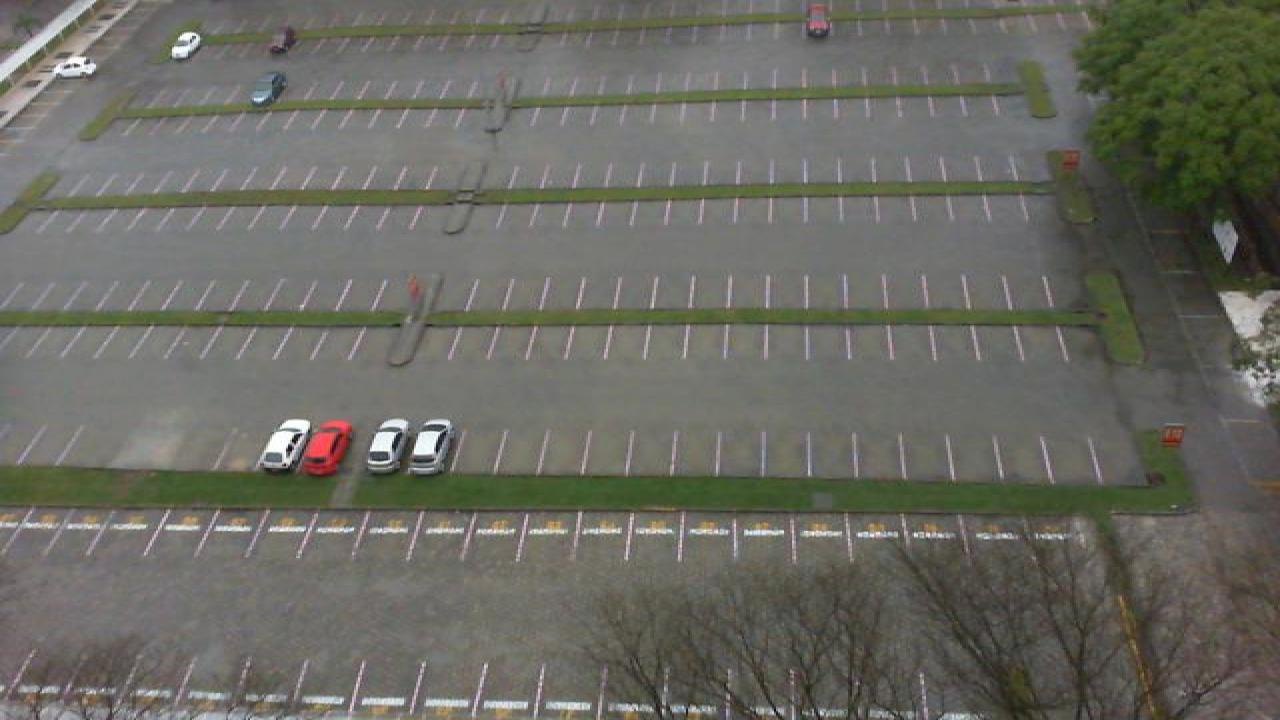Car: (298, 418, 354, 476), (256, 418, 312, 472), (362, 418, 416, 472), (406, 419, 456, 474), (250, 70, 288, 108), (50, 54, 96, 78), (170, 30, 204, 61), (804, 4, 834, 38), (270, 26, 300, 56)
